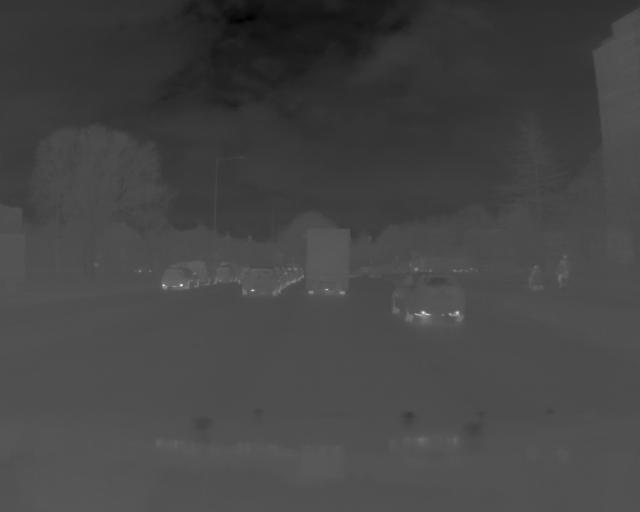car: (387, 273, 467, 324), (302, 225, 352, 296), (241, 268, 280, 298), (159, 265, 201, 290)
person: (555, 253, 570, 290), (527, 263, 541, 291)
